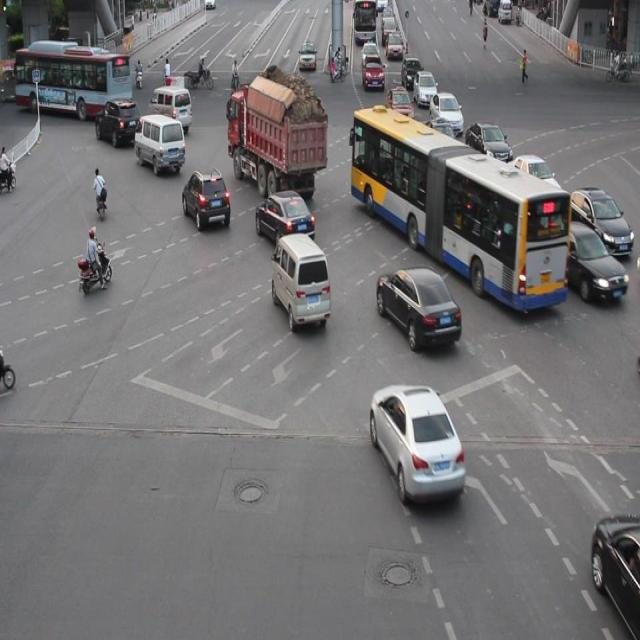bus: (227, 87, 326, 197)
car: (369, 384, 465, 503), (375, 264, 461, 349), (588, 511, 640, 640), (550, 219, 627, 301), (562, 186, 631, 255), (490, 186, 546, 253), (255, 190, 315, 249), (182, 167, 230, 230), (504, 153, 562, 204), (95, 96, 143, 146), (464, 121, 511, 163), (421, 119, 461, 162), (428, 90, 463, 136), (386, 87, 414, 123)
truck: (270, 232, 330, 330), (134, 113, 186, 174), (148, 86, 192, 132)
van: (350, 108, 568, 310)
